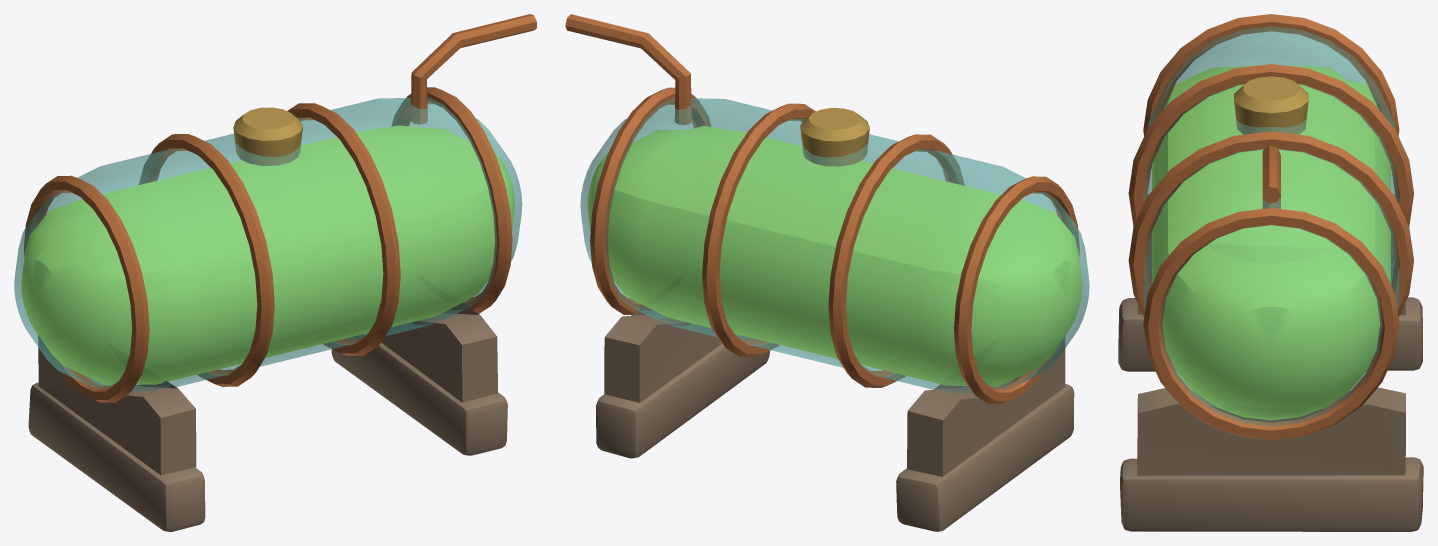
Rendered from deco_fluid_tank_horizontal.fbx.
The picture shows the model from 3 angles, left to right: view 1: azimuth 30°, elevation 25°; view 2: azimuth 150°, elevation 25°; view 3: azimuth 270°, elevation 25°; orthographic projection. The views are drawn at different scales.
Parts seen in each view (by area): view 1: FluidTank_Horizontal_Glass, FluidTank_Horizontal_Liquid, FluidTank_Horizontal_Cradles, FluidTank_Horizontal_Bands; view 2: FluidTank_Horizontal_Glass, FluidTank_Horizontal_Liquid, FluidTank_Horizontal_Cradles, FluidTank_Horizontal_Bands; view 3: FluidTank_Horizontal_Glass, FluidTank_Horizontal_Liquid, FluidTank_Horizontal_Bands, FluidTank_Horizontal_Cradles.
Boxes of the visible parts, box(x1,y1,x2,y2) form: FluidTank_Horizontal_Glass: box(14, 97, 522, 391); FluidTank_Horizontal_Liquid: box(21, 125, 514, 385); FluidTank_Horizontal_Cradles: box(28, 303, 507, 531); FluidTank_Horizontal_Bands: box(24, 14, 536, 402); FluidTank_Horizontal_Glass: box(580, 98, 1089, 393); FluidTank_Horizontal_Liquid: box(587, 126, 1082, 386); FluidTank_Horizontal_Cradles: box(596, 305, 1074, 531); FluidTank_Horizontal_Bands: box(565, 14, 1079, 403); FluidTank_Horizontal_Glass: box(1144, 26, 1398, 426); FluidTank_Horizontal_Liquid: box(1152, 65, 1390, 420); FluidTank_Horizontal_Bands: box(1128, 14, 1413, 439); FluidTank_Horizontal_Cradles: box(1118, 259, 1423, 531).
Size of the model in its own units: 200 by 138 by 95.84.
